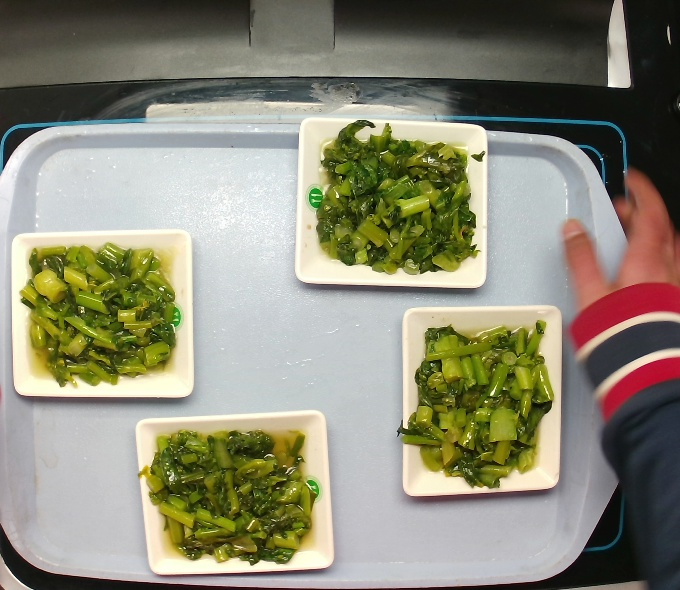wcq-YouCaiHua: (304, 110, 489, 292), (396, 314, 560, 487), (136, 421, 326, 567), (12, 236, 184, 387)
